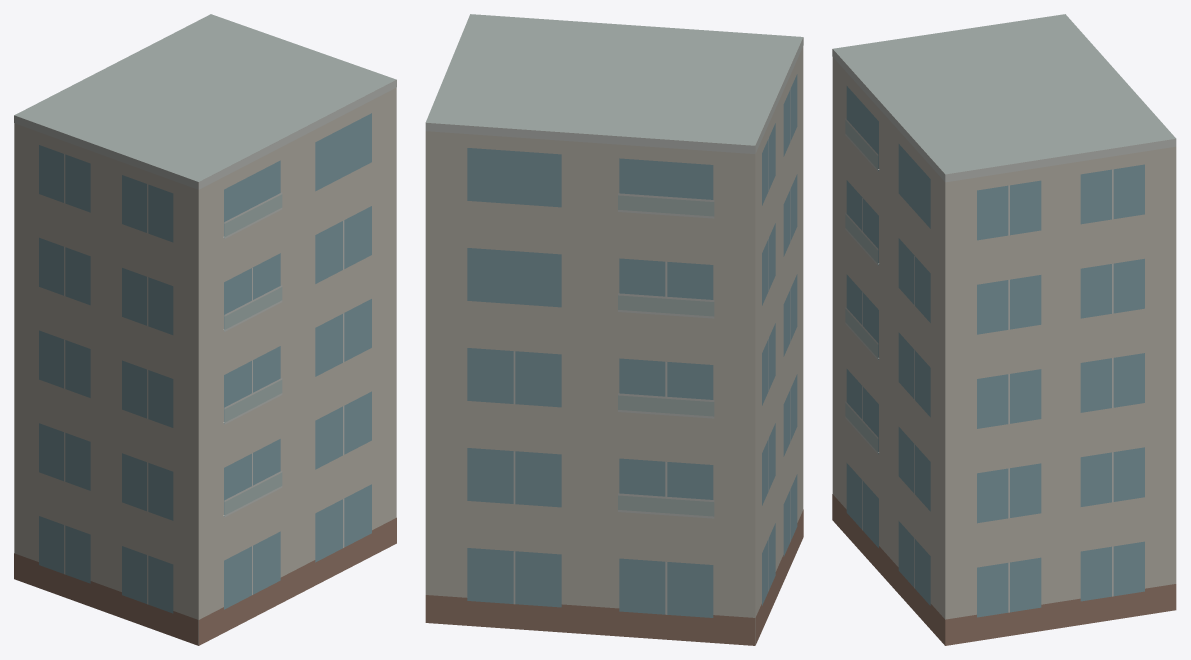
Rendered from survey-upis-32941911.glb.
3 views of the same model, side by side, from view 1: azimuth 30°, elevation 25°; view 2: azimuth 150°, elevation 25°; view 3: azimuth 270°, elevation 25° (orthographic). The views are drawn at different scales.
Parts seen in each view (by area): view 1: survey-upis-32941911.tmp; view 2: survey-upis-32941911.tmp; view 3: survey-upis-32941911.tmp.
Boxes of the visible parts, x1,y1,x2,y2 form: survey-upis-32941911.tmp: (14,14,396,645); survey-upis-32941911.tmp: (425,14,803,645); survey-upis-32941911.tmp: (832,14,1176,645).
Size of the model in its own units: 10.59 by 14.5 by 9.6.
